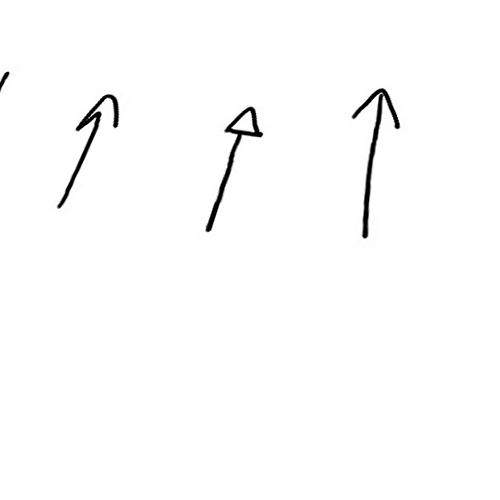arrow: (53, 89, 124, 216), (351, 83, 397, 238), (210, 105, 263, 230)
